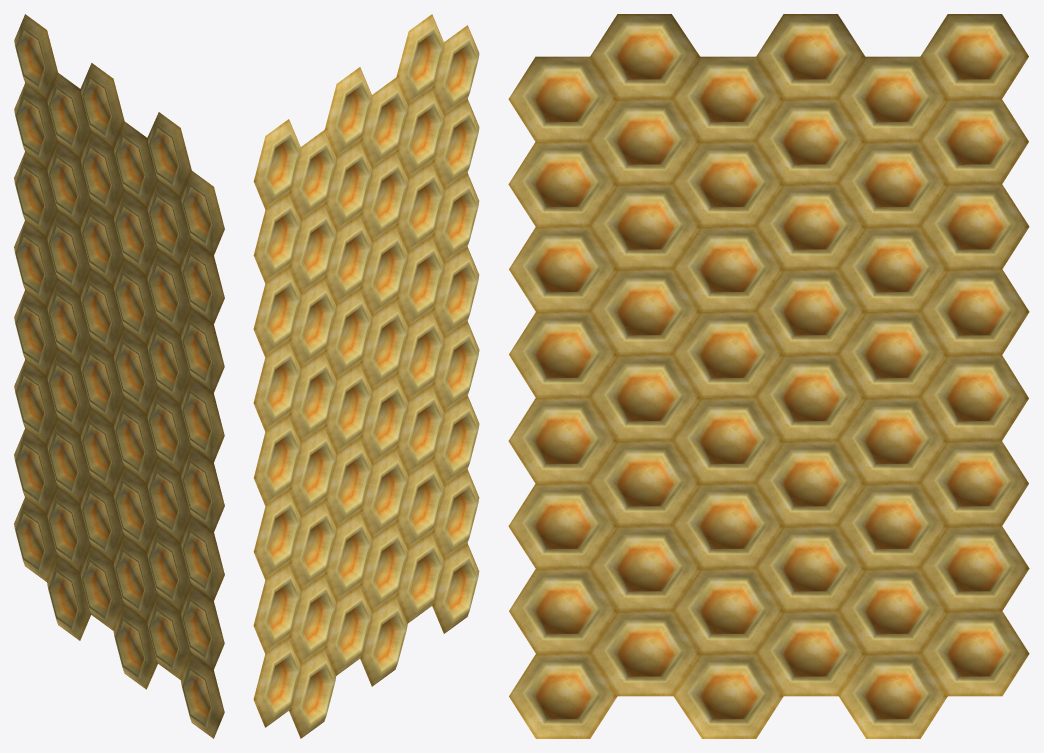
The model's file is honeycomb.glb.
3 renders of one model, left to right at view 1: azimuth 30°, elevation 25°; view 2: azimuth 150°, elevation 25°; view 3: azimuth 270°, elevation 25°, orthographic. The views are drawn at different scales.
Visible parts, largest first — view 1: honeycomb.001; view 2: honeycomb.001; view 3: honeycomb.001.
Boxes of the visible parts, x1=… form: honeycomb.001: x1=14, y1=14, x2=224, y2=738; honeycomb.001: x1=253, y1=14, x2=479, y2=738; honeycomb.001: x1=508, y1=14, x2=1029, y2=738.
Size of the model in its own units: 0.723 by 62.42 by 40.67.
Materials: 1 (1 with a texture image).
